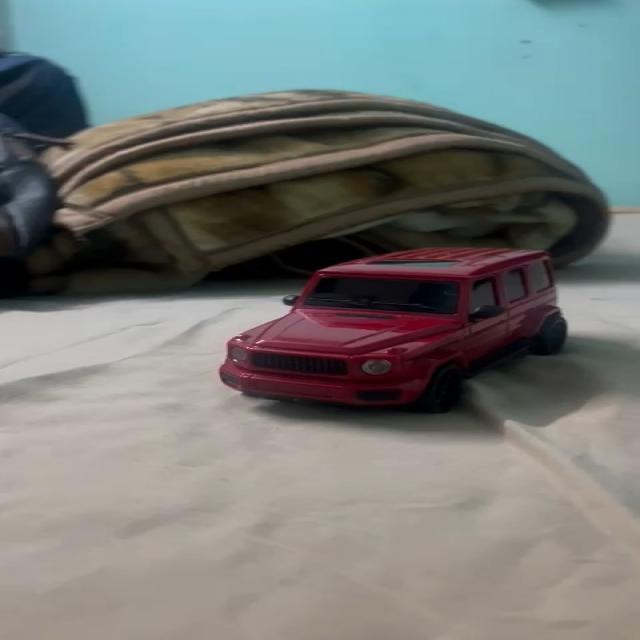light_vehicle: (200, 243, 581, 412)
